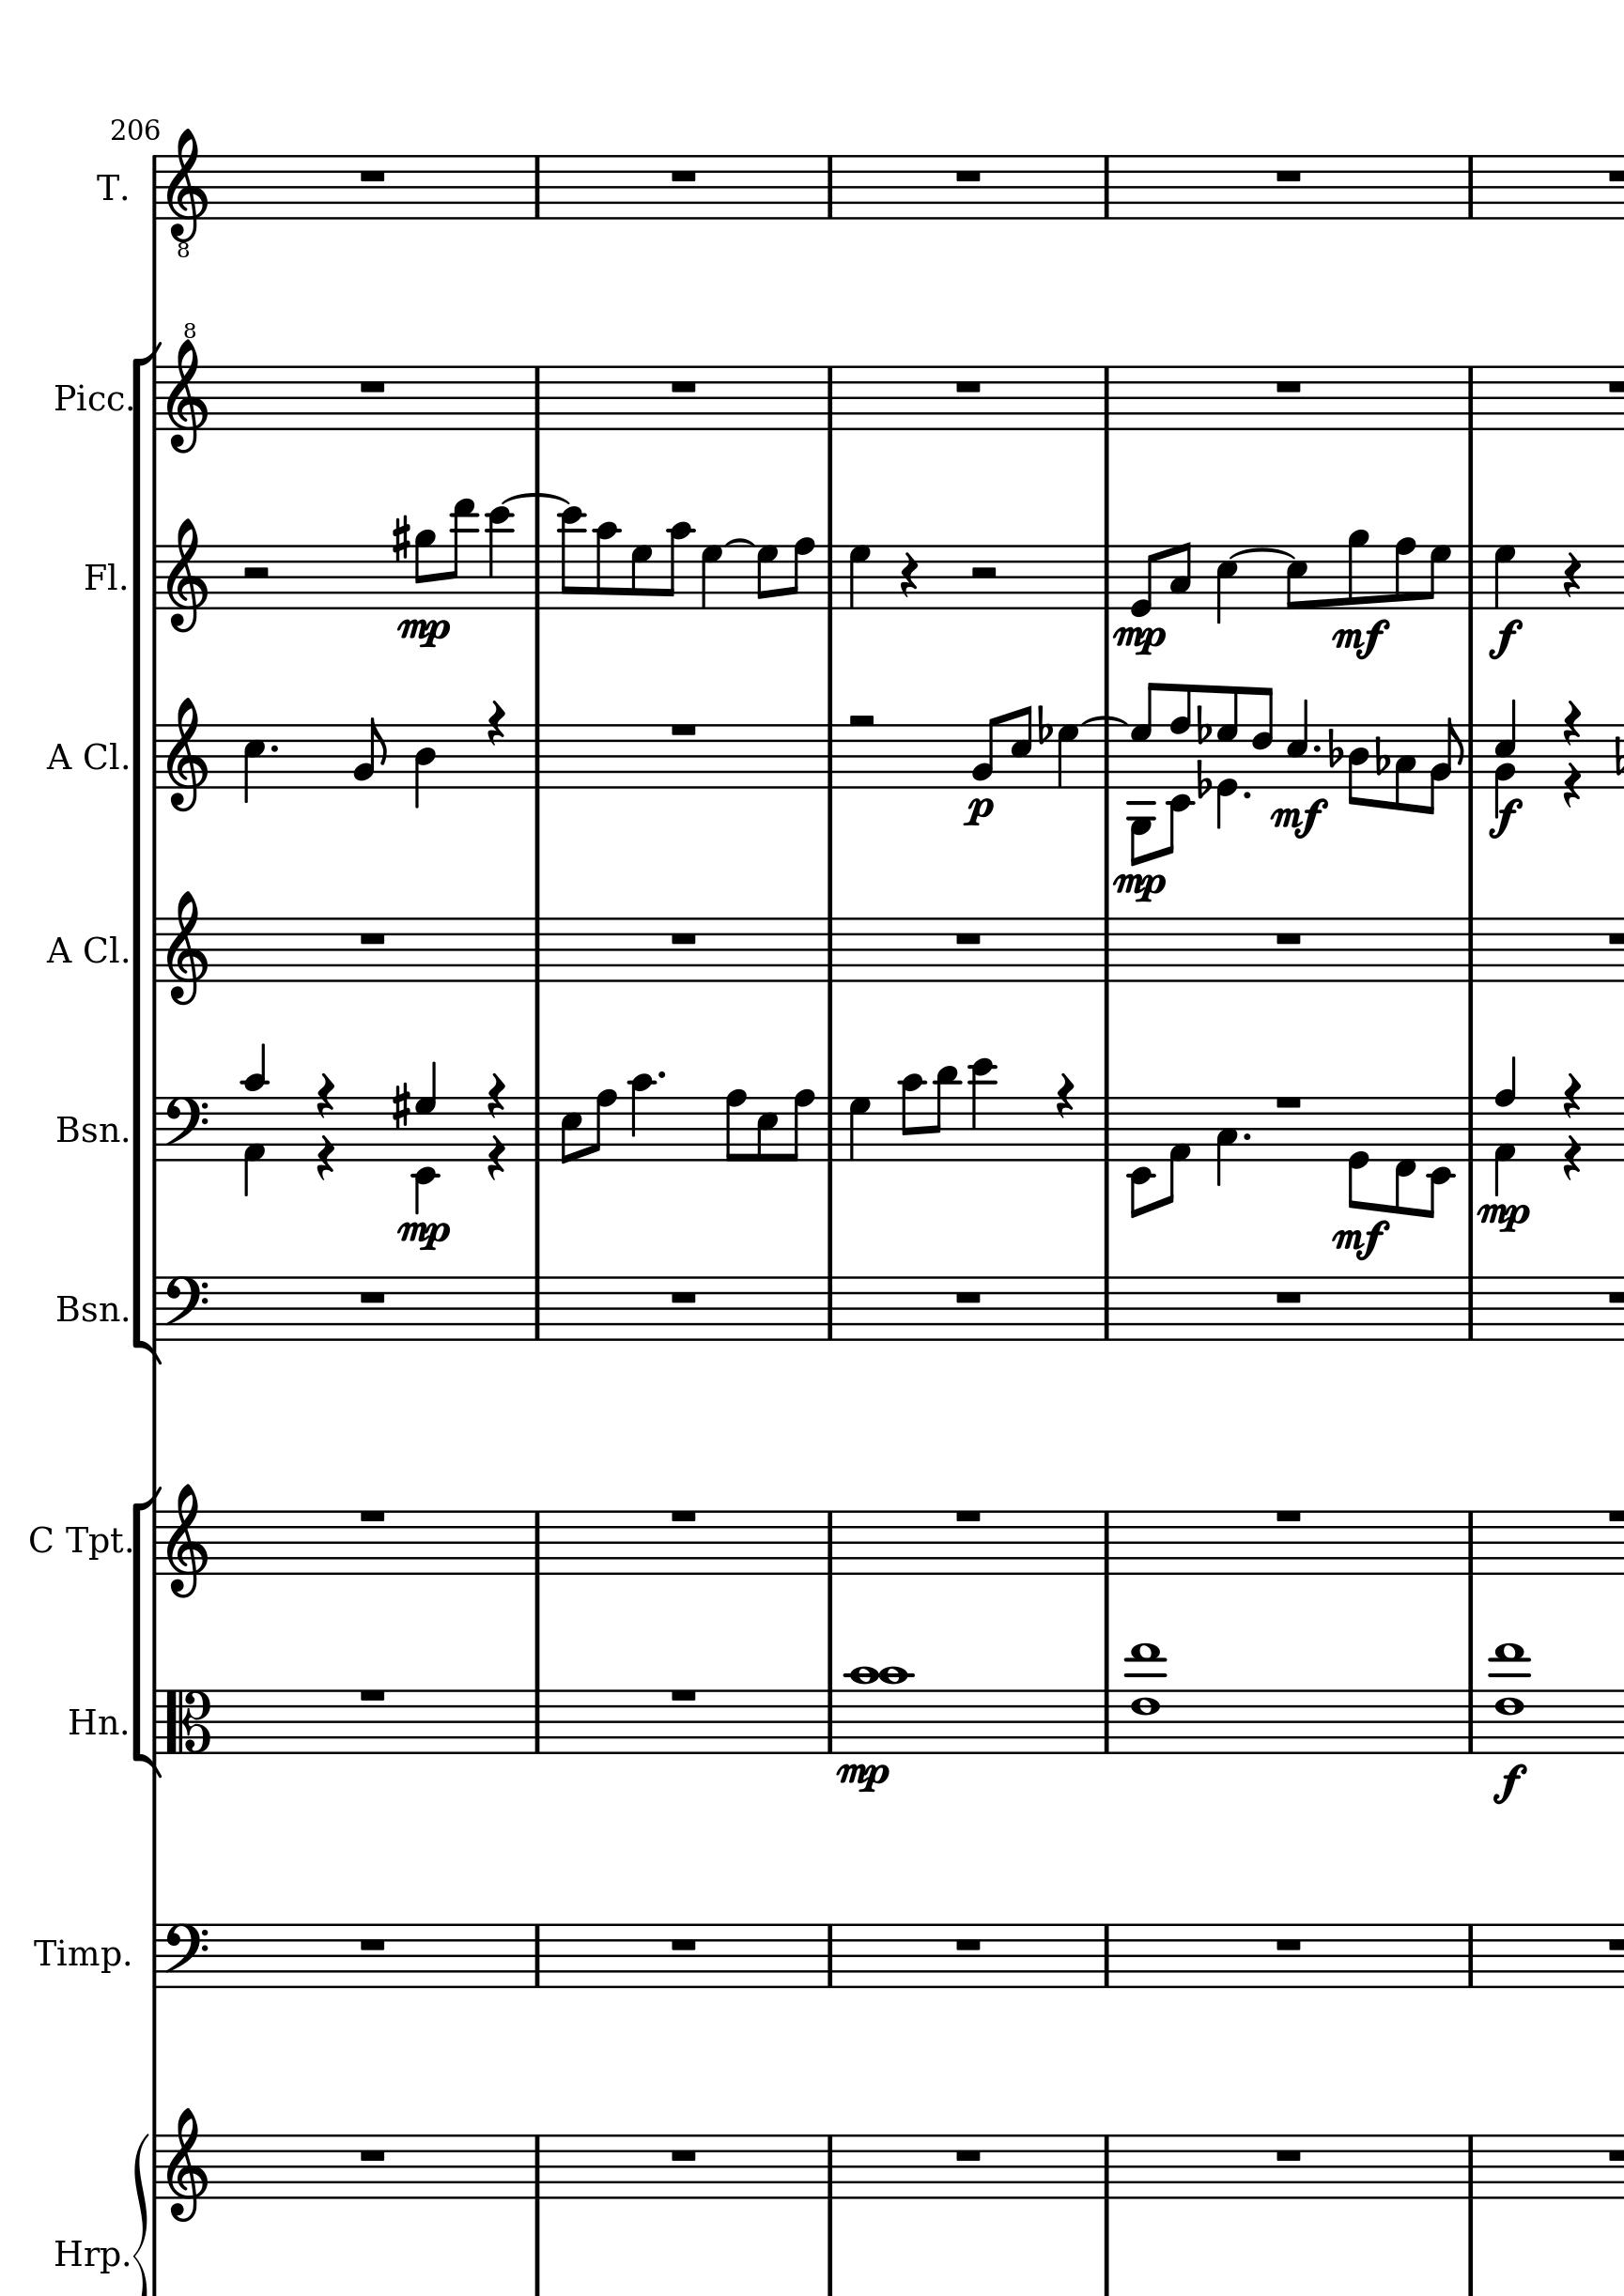0: (125, 116, 142, 144)
1_6_13: (1123, 1641, 1171, 1757), (1487, 1641, 1534, 1757)
2: (107, 116, 127, 144)
4_-2_7: (411, 1061, 443, 1216)
4_1: (1164, 1093, 1190, 1205)
4_10: (626, 1070, 654, 1163)
4_12: (485, 506, 513, 613), (967, 1056, 995, 1163)
4_1_10: (237, 1043, 272, 1195)
4_1_8: (1494, 1058, 1519, 1200)
4_3: (1213, 1094, 1237, 1188)
4_4: (411, 722, 434, 810)
4_5: (1213, 545, 1237, 627), (241, 722, 265, 805)
4_7: (1490, 545, 1517, 613), (1055, 724, 1079, 792), (847, 545, 870, 613), (847, 1096, 870, 1165)
6: (142, 116, 160, 144)
8_-1: (1392, 1093, 1415, 1216)
8_-2: (1422, 1093, 1454, 1217), (1125, 1093, 1155, 1216)
8_-2_8: (1156, 682, 1190, 854)
8_0: (1346, 1093, 1369, 1210), (1128, 543, 1156, 617)
8_10: (661, 520, 692, 611), (896, 1072, 923, 1163), (592, 522, 619, 611)
8_11: (928, 1065, 958, 1163)
8_12: (555, 506, 585, 613)
8_13: (445, 494, 476, 610)
8_2: (352, 715, 387, 791), (970, 713, 1000, 791)
8_3: (1392, 722, 1415, 813), (1167, 541, 1192, 613)
8_4: (1345, 727, 1367, 805)
8_5: (1285, 696, 1308, 791), (1009, 704, 1032, 791), (557, 1096, 582, 1166), (1283, 545, 1308, 613), (754, 1094, 779, 1163)
8_7: (1250, 683, 1272, 791), (1214, 683, 1237, 780), (1422, 543, 1452, 611), (698, 545, 722, 613), (754, 545, 777, 611), (629, 545, 652, 610)
8_8: (784, 1086, 816, 1163), (786, 536, 816, 613), (589, 1086, 617, 1163), (722, 1087, 747, 1165), (1392, 536, 1415, 611)
8_9: (1345, 527, 1369, 611), (413, 527, 434, 611)
Brace: (130, 2131, 149, 2296)
Bracke: (128, 339, 156, 1363), (130, 1484, 167, 1778)
Bsn: (51, 1293, 121, 1333), (51, 1112, 121, 1151)
Cclef: (162, 1686, 211, 1758)
Cl: (79, 931, 121, 971), (81, 738, 121, 778)
Fclef: (162, 1922, 211, 1990), (162, 1094, 209, 1165), (162, 1274, 209, 1344)
Fl: (79, 559, 120, 596)
Flat: (1371, 733, 1388, 778), (1193, 759, 1209, 803), (1325, 726, 1341, 769), (1035, 703, 1051, 745), (1193, 701, 1209, 743)
Gclef: (163, 518, 209, 636), (163, 891, 209, 1008), (163, 697, 209, 813), (165, 1484, 209, 1600), (165, 2106, 209, 2222)
High_Gclef: (163, 320, 207, 455)
Hn: (49, 2233, 120, 2280), (63, 1700, 120, 1741)
Lower_Gclef: (163, 126, 209, 260)
Picc: (47, 376, 127, 416)
Rests1: (353, 2145, 388, 2166), (951, 376, 984, 397), (1271, 376, 1304, 397), (1271, 1286, 1304, 1307), (355, 1685, 388, 1706), (666, 2145, 700, 2166), (951, 2145, 984, 2166), (1271, 2145, 1304, 2166), (353, 165, 388, 184), (353, 378, 388, 397), (1271, 1093, 1306, 1112), (353, 1505, 388, 1525), (353, 1934, 388, 1953), (666, 165, 700, 184), (951, 167, 984, 186), (1271, 165, 1304, 184), (666, 378, 700, 397), (666, 720, 700, 740), (1271, 928, 1304, 947), (355, 1288, 388, 1307), (666, 1288, 700, 1307), (951, 1288, 984, 1307), (666, 1505, 700, 1525), (951, 1505, 984, 1525), (1271, 1505, 1304, 1525), (666, 1685, 700, 1704), (666, 1934, 700, 1953), (951, 1934, 984, 1953), (1271, 1934, 1304, 1953), (355, 929, 388, 947), (666, 929, 700, 947), (951, 929, 984, 947)
Rests2: (842, 710, 879, 731), (965, 564, 1000, 585), (237, 562, 272, 581)
Rests4: (313, 1070, 336, 1121), (483, 1070, 506, 1121), (483, 1133, 506, 1184), (896, 550, 919, 599), (313, 1135, 336, 1184), (1053, 1072, 1076, 1121), (1559, 1133, 1580, 1184), (485, 699, 506, 748), (1559, 762, 1580, 812), (1561, 550, 1580, 599), (1561, 699, 1580, 748), (1561, 1072, 1580, 1121)
Sharp: (390, 513, 410, 562), (390, 1082, 410, 1130)
Single_barline: (526, 724, 548, 789), (526, 917, 548, 982), (817, 917, 840, 982), (526, 1096, 548, 1161), (821, 1094, 842, 1161), (1459, 365, 1480, 430), (819, 365, 840, 430), (1459, 545, 1480, 610), (526, 545, 547, 610), (819, 724, 840, 789), (1095, 917, 1116, 982), (1459, 917, 1480, 982), (1459, 1275, 1480, 1340), (1459, 1690, 1480, 1755), (526, 365, 547, 429), (1095, 365, 1116, 429), (526, 1277, 547, 1340), (819, 1277, 840, 1340), (1095, 1511, 1116, 1574), (1459, 1511, 1480, 1574), (1095, 2134, 1116, 2198), (526, 2136, 547, 2198), (819, 2136, 840, 2198), (821, 545, 840, 610), (1097, 545, 1116, 610), (1097, 1096, 1116, 1161), (1461, 1096, 1480, 1161), (526, 1690, 545, 1755), (819, 1690, 838, 1755), (1461, 156, 1480, 220), (146, 546, 165, 610), (1097, 1277, 1116, 1340), (526, 1511, 545, 1574), (819, 1511, 838, 1574), (1097, 1690, 1116, 1753), (1461, 1925, 1480, 1989), (1461, 2136, 1480, 2198), (146, 1690, 163, 1757), (148, 365, 165, 430), (1462, 724, 1480, 789), (146, 1277, 163, 1342), (821, 1924, 838, 1989), (527, 156, 545, 220), (821, 156, 838, 220), (1097, 156, 1114, 220), (146, 919, 163, 982), (146, 1098, 163, 1161), (148, 1511, 165, 1574), (527, 1925, 545, 1987), (1097, 1925, 1114, 1987), (1097, 729, 1114, 789), (146, 156, 162, 220), (148, 726, 163, 789), (146, 1925, 162, 1989), (148, 2136, 162, 2199)
Slur: (501, 492, 569, 506), (1227, 548, 1295, 560), (1081, 715, 1127, 726), (722, 538, 754, 548)
Timp: (25, 1936, 125, 1976)
Tpt: (62, 1520, 121, 1565)
dot: (654, 1068, 668, 1082), (1237, 1130, 1251, 1144), (267, 741, 279, 755), (1239, 789, 1251, 801), (1309, 743, 1322, 754)
f: (1489, 1762, 1527, 1808), (1485, 617, 1522, 661), (1487, 796, 1524, 840)
mf: (1269, 796, 1329, 843), (1330, 617, 1390, 662), (1330, 1217, 1390, 1261)
mp: (1476, 1196, 1533, 1235), (1111, 622, 1167, 659), (394, 1217, 452, 1253), (1111, 870, 1167, 905), (394, 617, 452, 650), (837, 1762, 889, 1795)
p: (961, 796, 993, 827)
